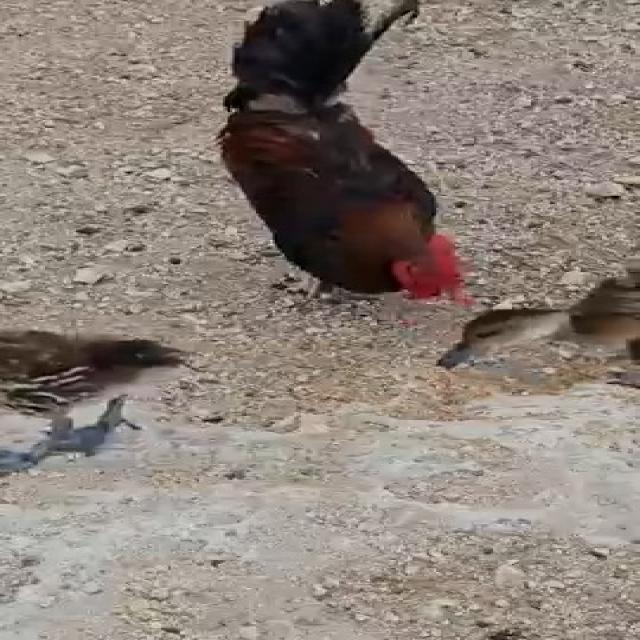pecking: (200, 0, 501, 316)
